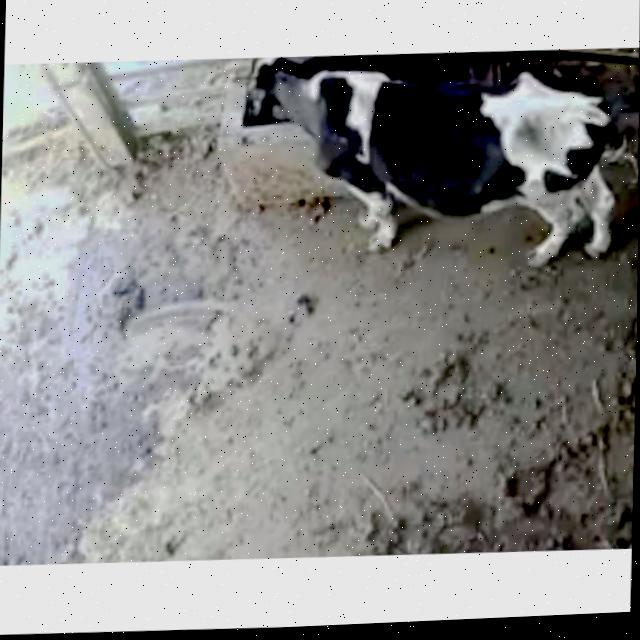drink: (220, 51, 380, 168)
